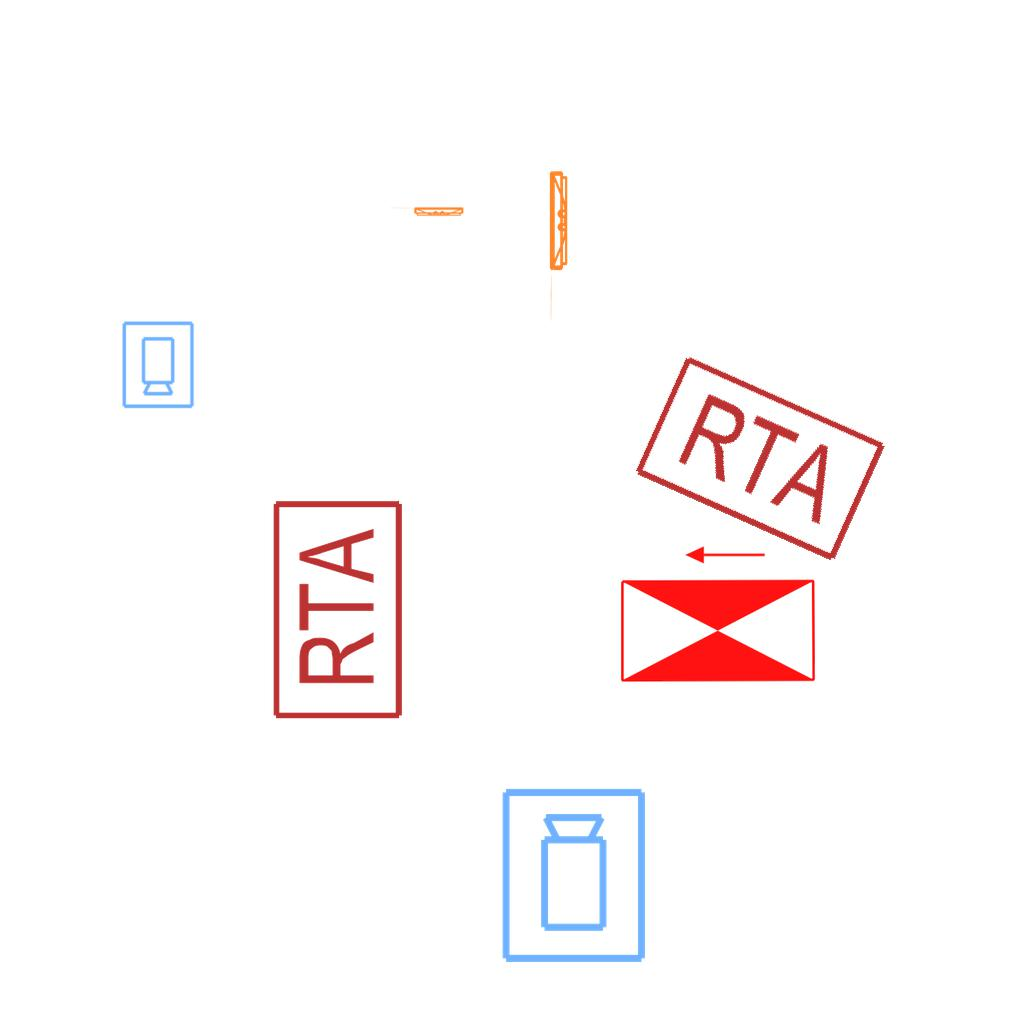Fluchtwegpiktogramm: (614, 541, 822, 688)
KFO_Kamera_mit_Festobjektiv: (498, 785, 652, 967), (119, 319, 196, 410)
Ruf-und_Abstelltaster: (625, 348, 891, 568), (269, 498, 407, 726)
Sicherheitsleuchte_Wandeinbau: (547, 166, 572, 325), (387, 206, 466, 218)
